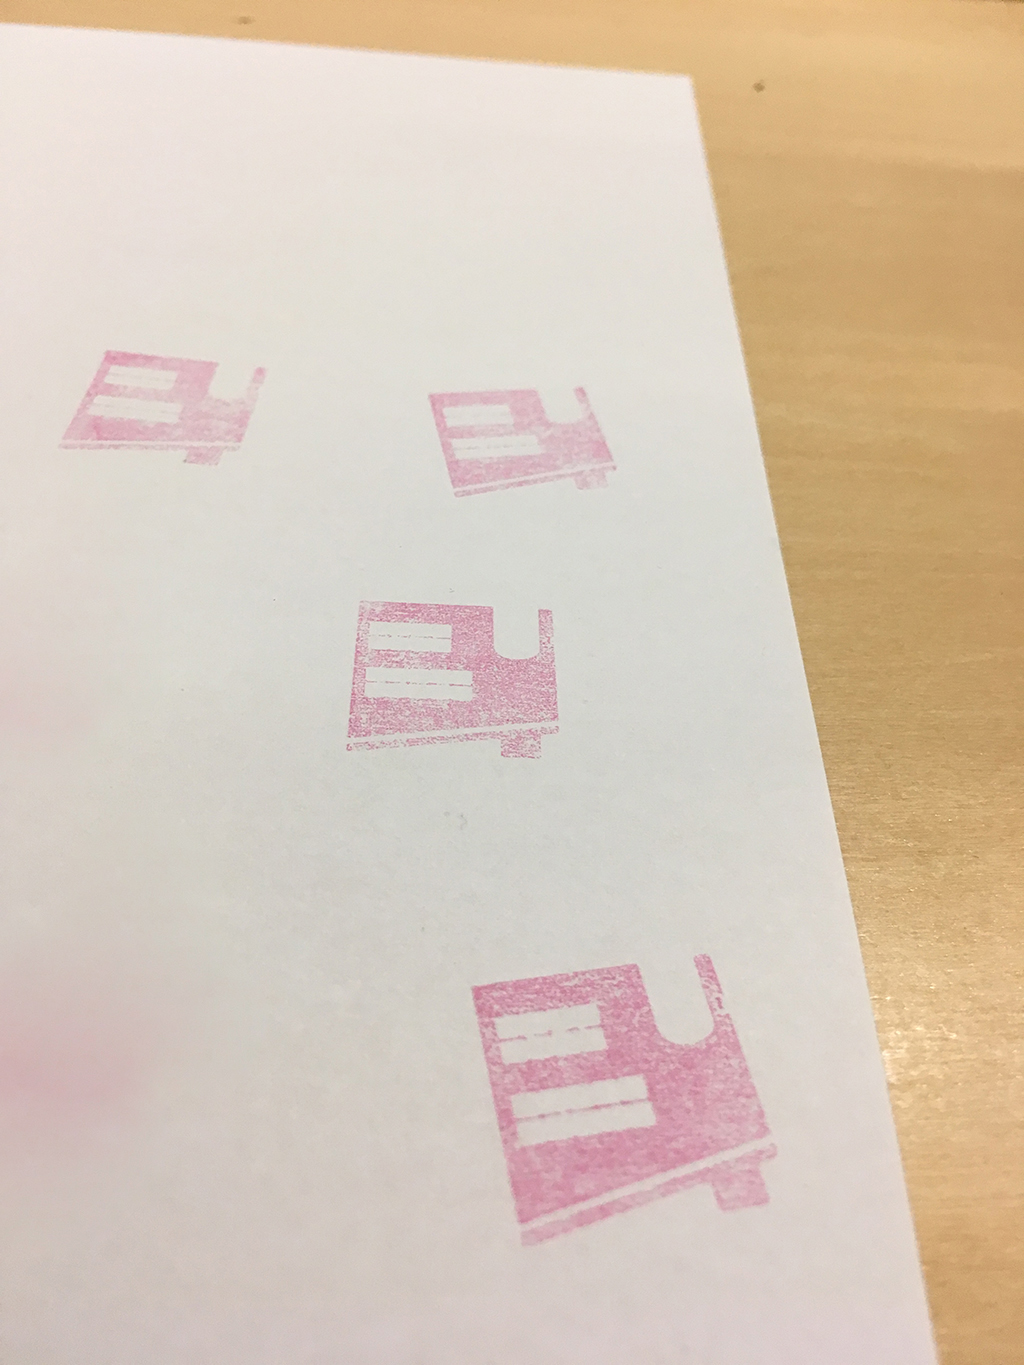house: (458, 943, 798, 1250), (332, 583, 574, 777), (49, 333, 273, 485), (408, 373, 631, 512)
